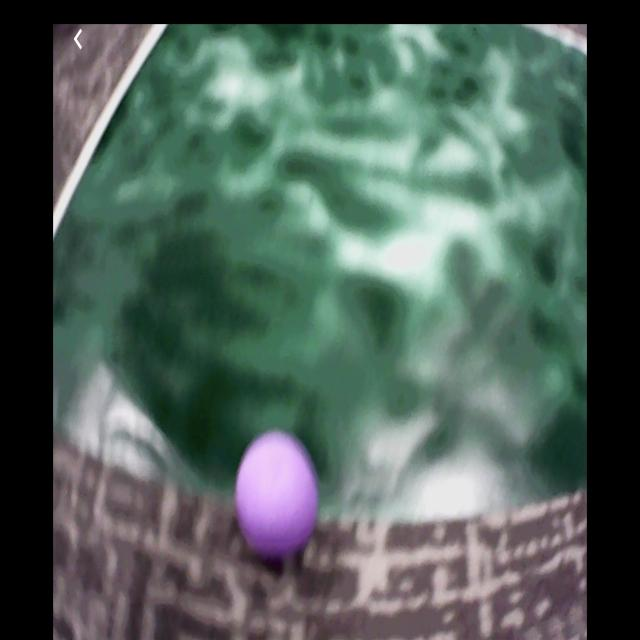ball: (238, 431, 316, 554)
